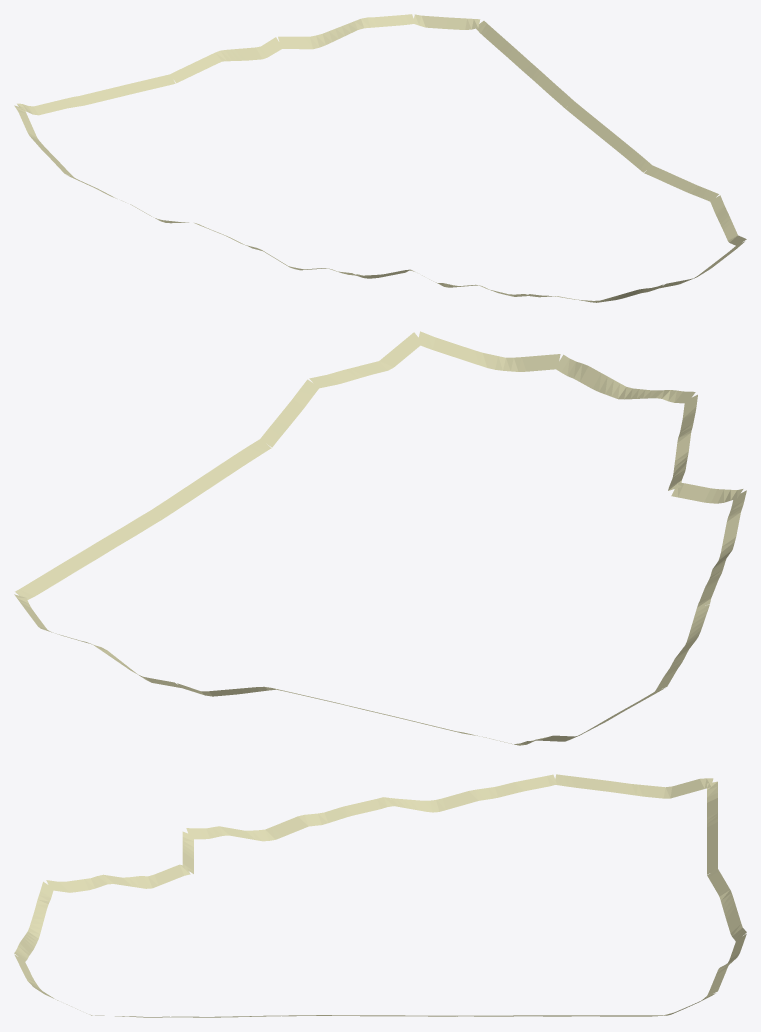
Rendered from Lake_Shore.glb.
3 renders of one model, top to bottom at view 1: azimuth 30°, elevation 25°; view 2: azimuth 150°, elevation 25°; view 3: azimuth 270°, elevation 25°, orthographic. The views are drawn at different scales.
Visible parts, largest first — view 1: Lake_Shore; view 2: Lake_Shore; view 3: Lake_Shore.
Part boxes in pixels (x1=…): Lake_Shore: x1=14, y1=14, x2=746, y2=302; Lake_Shore: x1=14, y1=331, x2=746, y2=745; Lake_Shore: x1=14, y1=774, x2=746, y2=1017.
Size of the model in its own units: 56.39 by 2.95 by 72.39.
